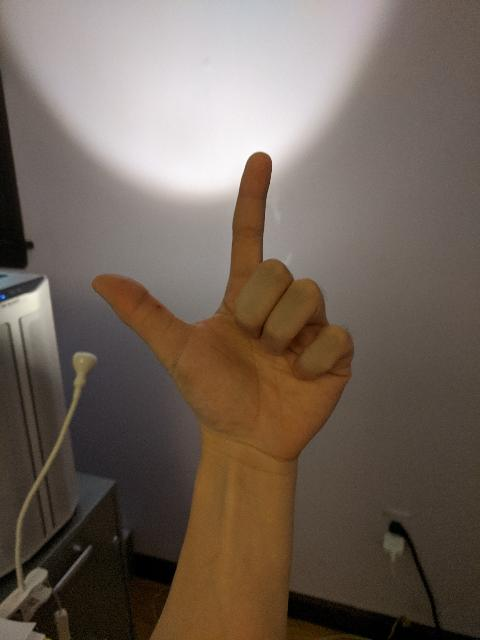L: (88, 145, 358, 463)
